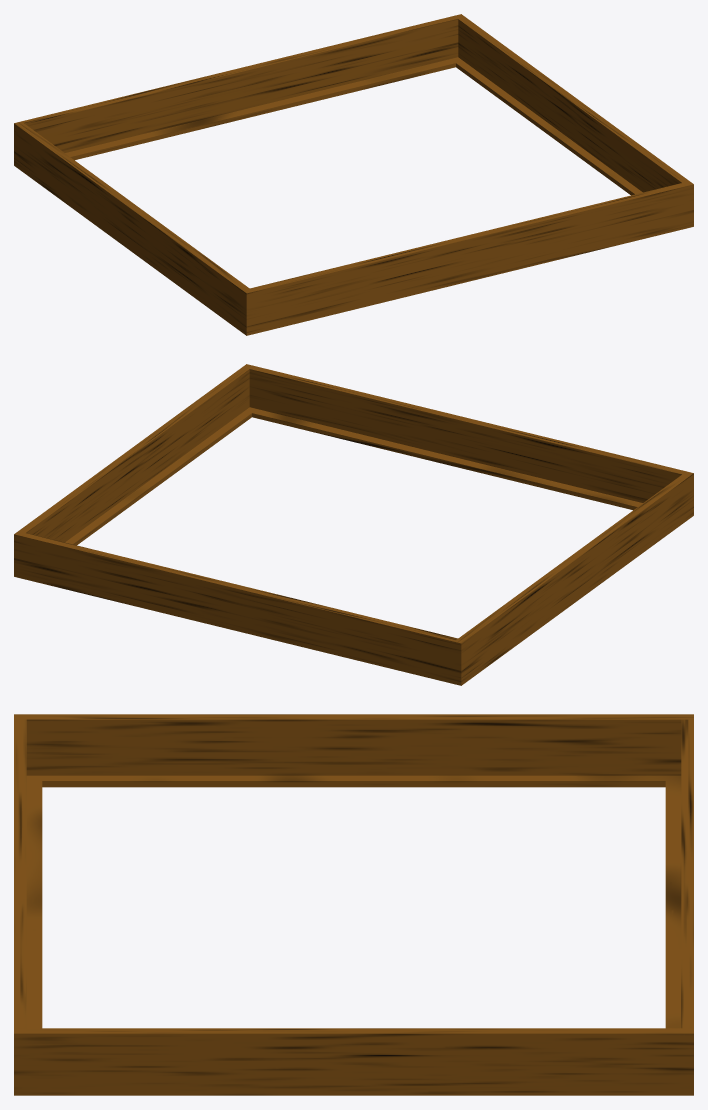
The model's file is Outer1.fbx.
3 renders of one model, top to bottom at view 1: azimuth 30°, elevation 25°; view 2: azimuth 150°, elevation 25°; view 3: azimuth 270°, elevation 25°, orthographic. The views are drawn at different scales.
Parts seen in each view (by area): view 1: Plane.004; view 2: Plane.004; view 3: Plane.004.
Boxes of the visible parts, x1,y1,x2,y2 form: Plane.004: (14, 14, 693, 335); Plane.004: (14, 364, 693, 685); Plane.004: (14, 714, 693, 1095).
Bounding box in the file's own units: 6.33 × 0.5739 × 5.7.
